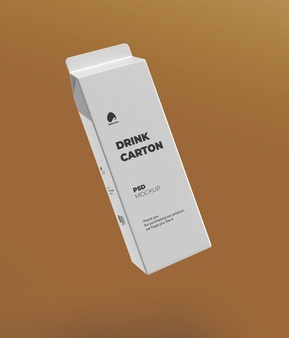carton: (57, 25, 232, 294)
